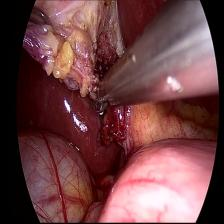Clipper: (90, 61, 135, 119)
